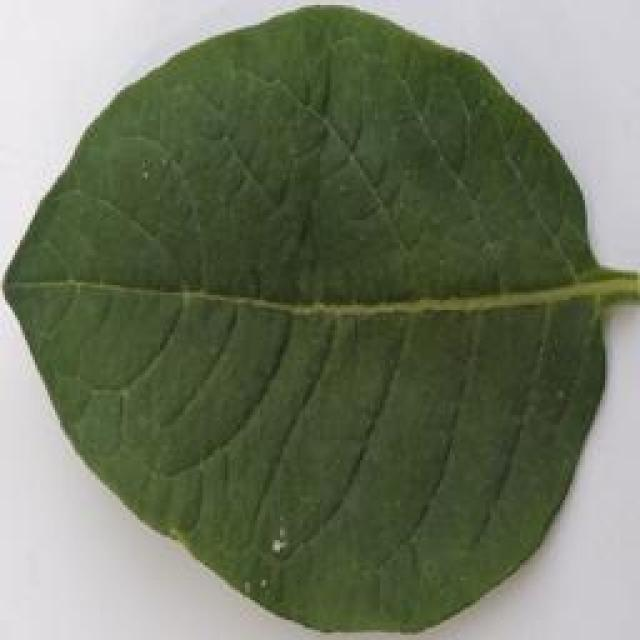Potato_Healthy: (3, 4, 621, 628)
